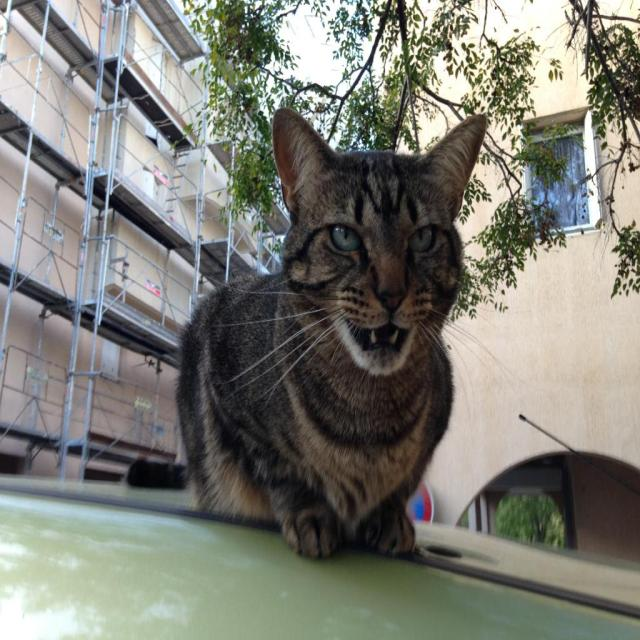Cat: (173, 105, 488, 558)
